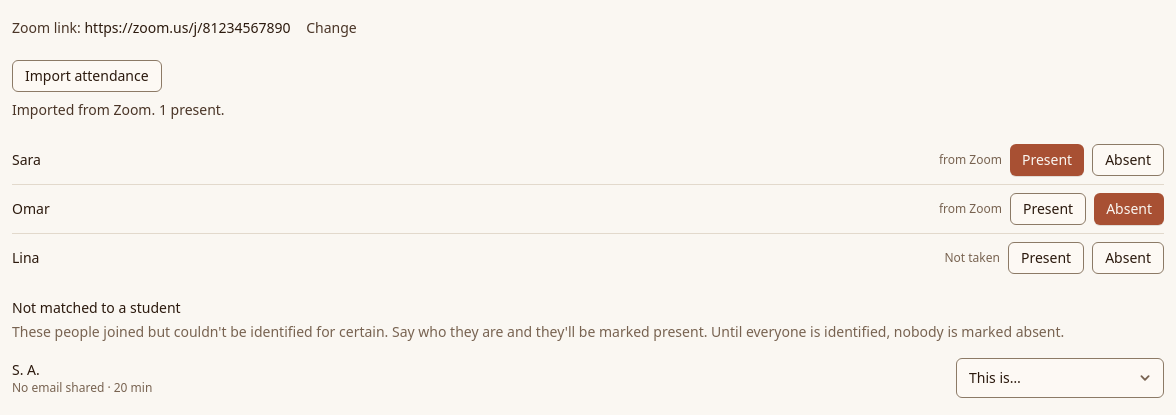
unmatched participants are listed and picking a student resolves them
Expected: the heading "Not matched to a student" is shown, top-left (12, 298), bottom-right (181, 317)
Expected: the text "S. A." is shown, top-left (12, 360), bottom-right (40, 379)
Select "Lina" in the dropdown named "This is… (S. A.)" at (1060, 378), box top-left (956, 358), bottom-right (1164, 398)
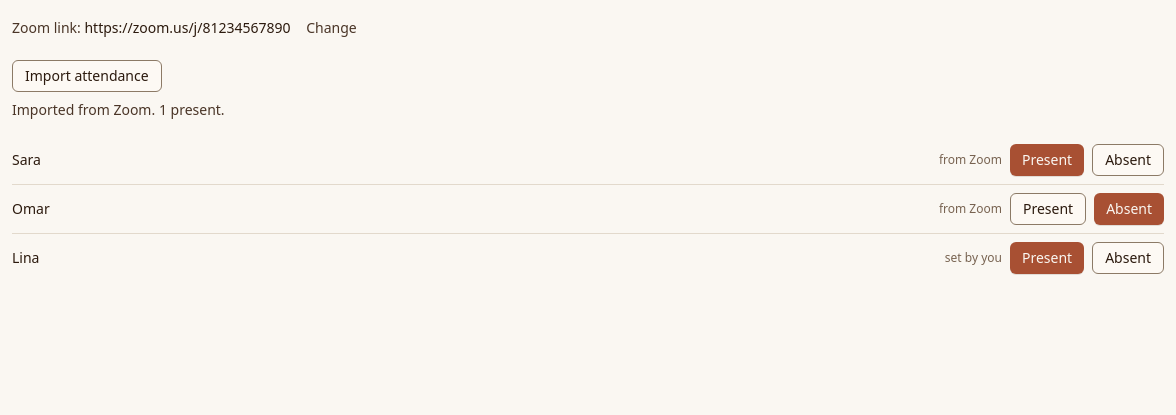
Expected: the heading "Not matched to a student" is gone
Expected: the text "set by you" is shown, top-left (945, 250), bottom-right (1002, 266)
